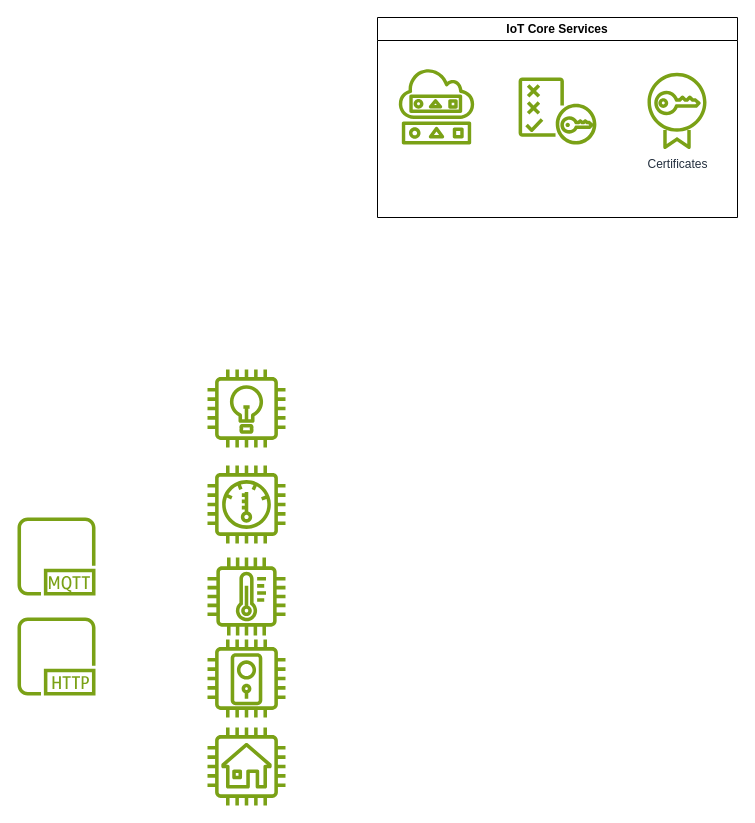
Some shapes in this 755 by 823 pixel diagram are drawn without their labels. Each missing label, with the centre of its shape:
Device Shadow: point 436,105
Policies: point 557,110
